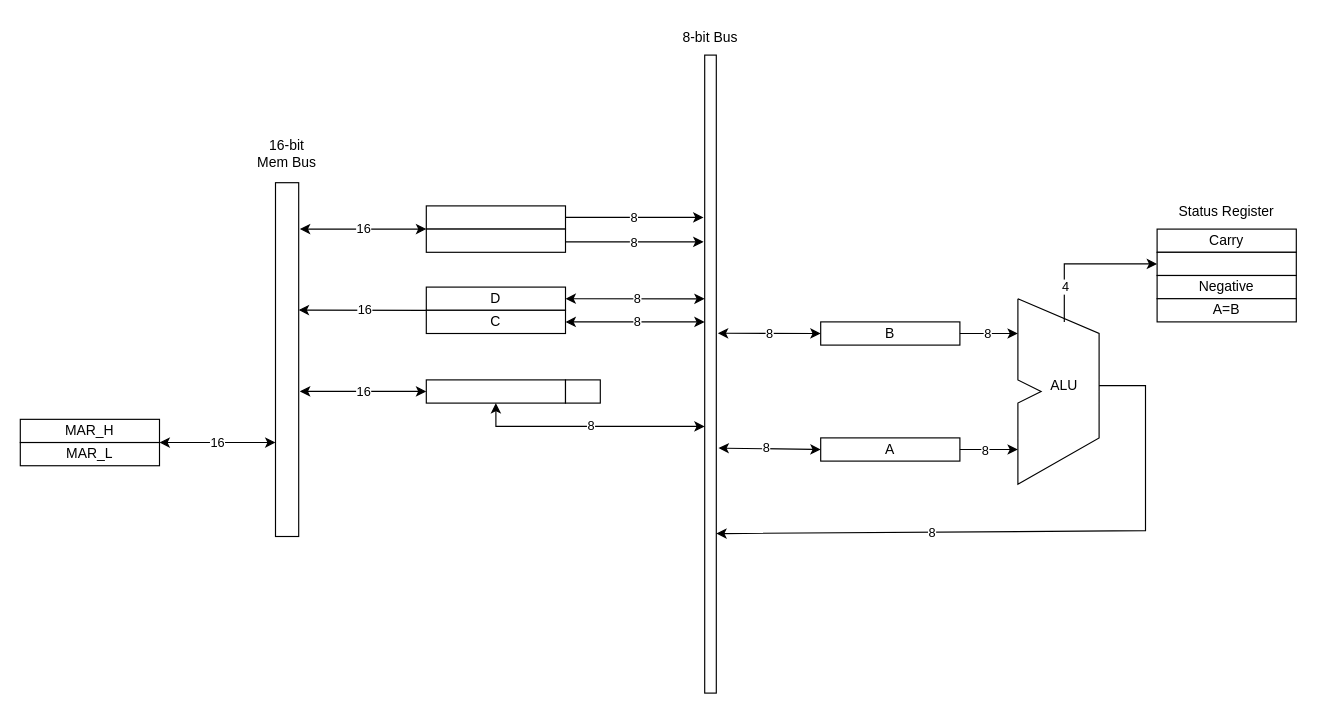
This 1317x713 diagram has some shape labels left out. Each missing label, with the centre of its shape:
0x01: pixel 582 391
PC_H: pixel 495 217
PC_L: pixel 495 240
SP: pixel 495 391
Zero: pixel 1226 263
